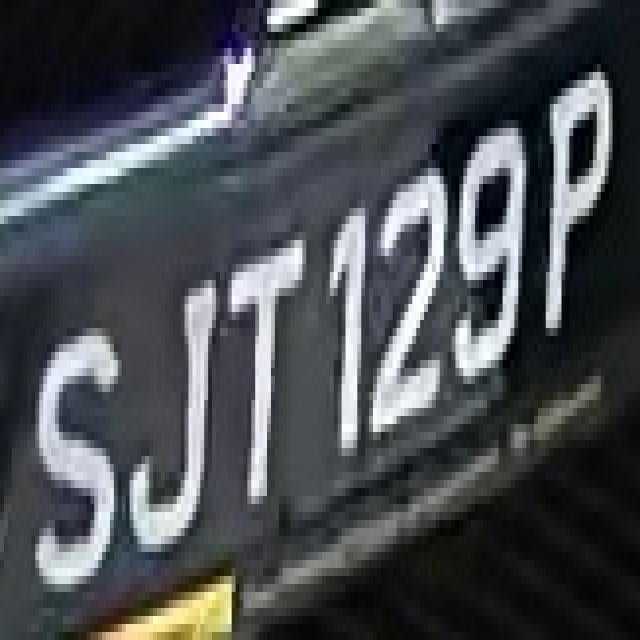1: (326, 184, 369, 464)
2: (369, 152, 459, 456)
9: (440, 128, 534, 416)
J: (125, 232, 224, 576)
P: (546, 32, 612, 368)
S: (20, 296, 126, 632)
T: (208, 240, 302, 552)
